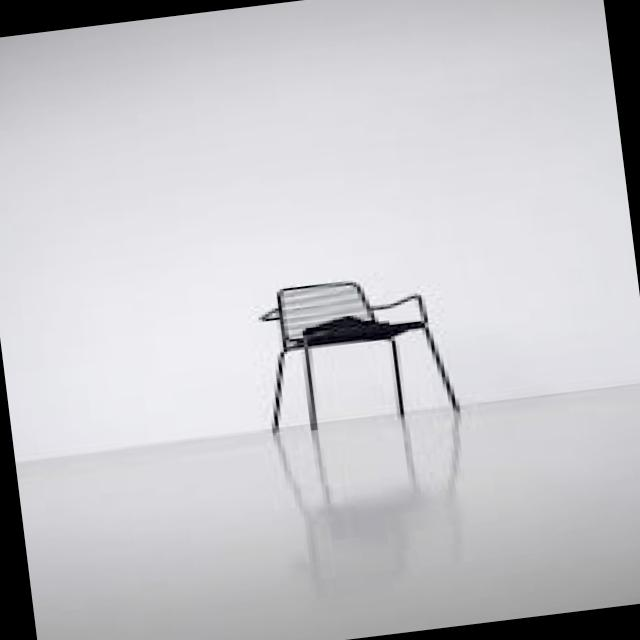obstacle: (165, 236, 502, 475)
